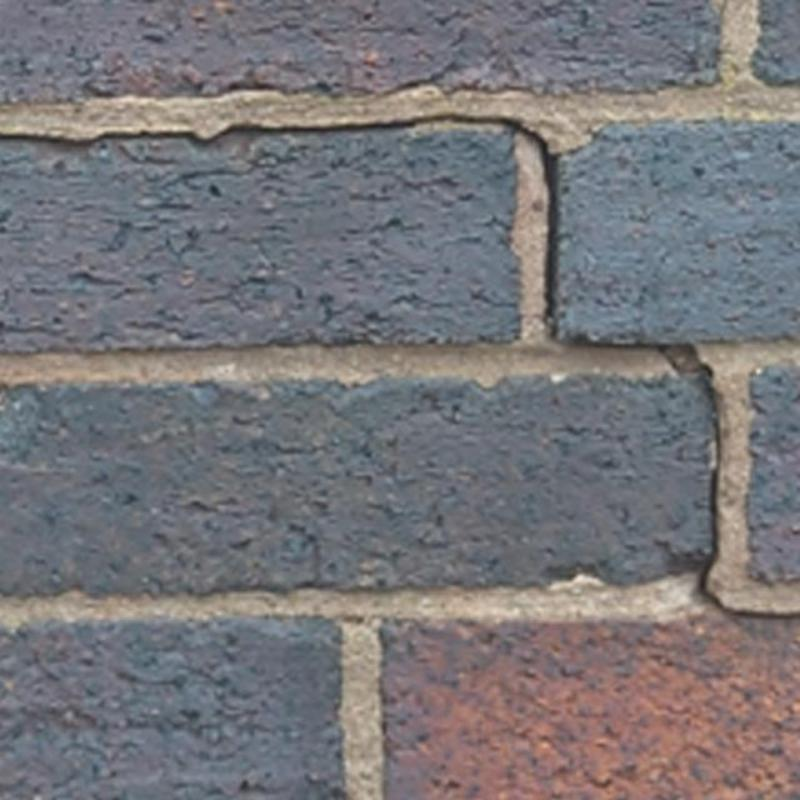pothole: (0, 111, 799, 619)
